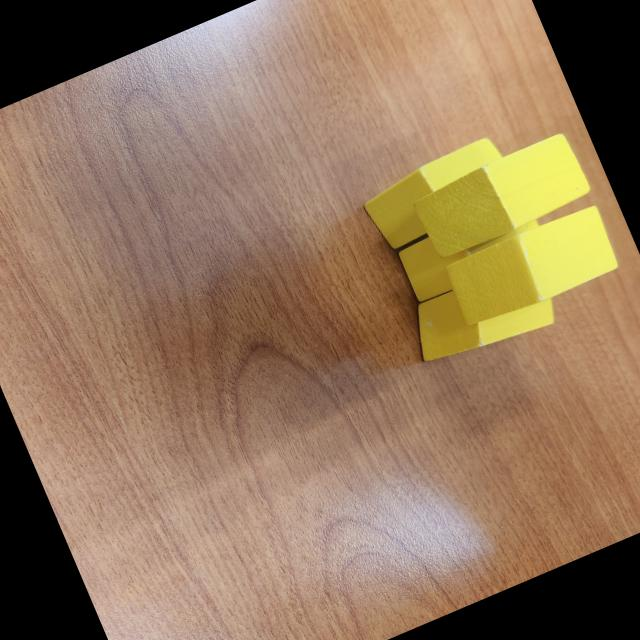yellow: (410, 128, 596, 262), (438, 200, 624, 334), (354, 132, 520, 255), (402, 252, 562, 376), (393, 194, 551, 306)
